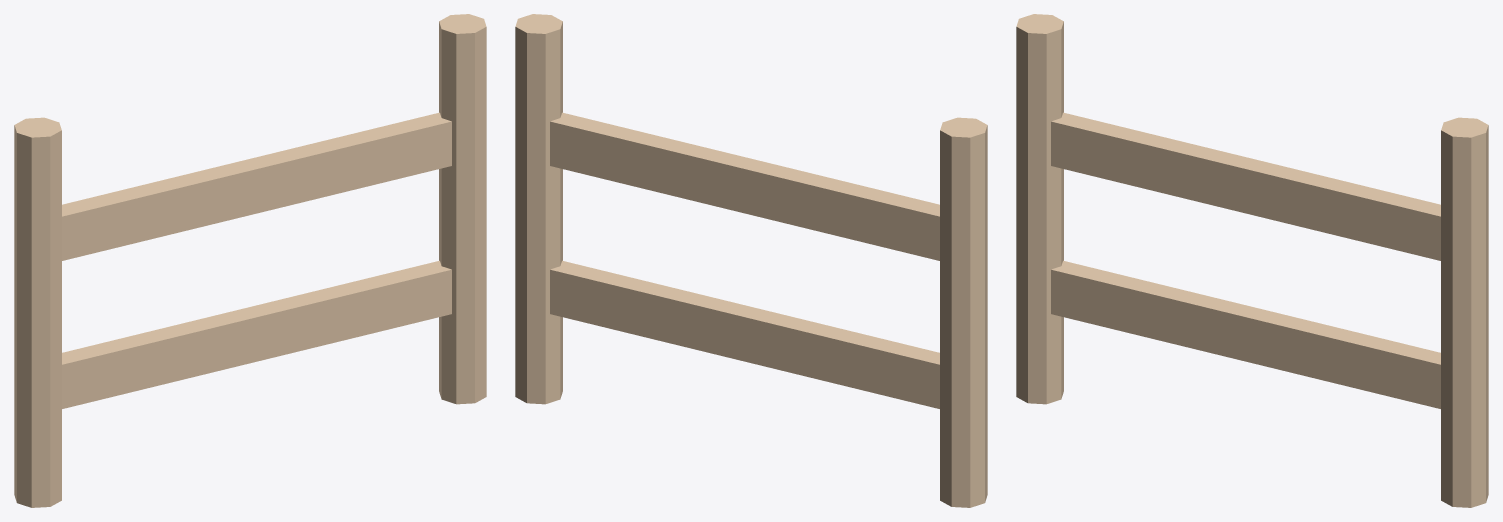
File: Fence.glb
3 renders of one model, left to right at view 1: azimuth 30°, elevation 25°; view 2: azimuth 150°, elevation 25°; view 3: azimuth 330°, elevation 25°, orthographic.
Visible parts, largest first — view 1: Fence; view 2: Fence; view 3: Fence.
Boxes of the visible parts, box(x1,y1,x2,y2) form: Fence: box(14, 14, 486, 507); Fence: box(515, 14, 987, 507); Fence: box(1016, 14, 1488, 507).
Size of the model in its own units: 1.32 by 1 by 0.12.
